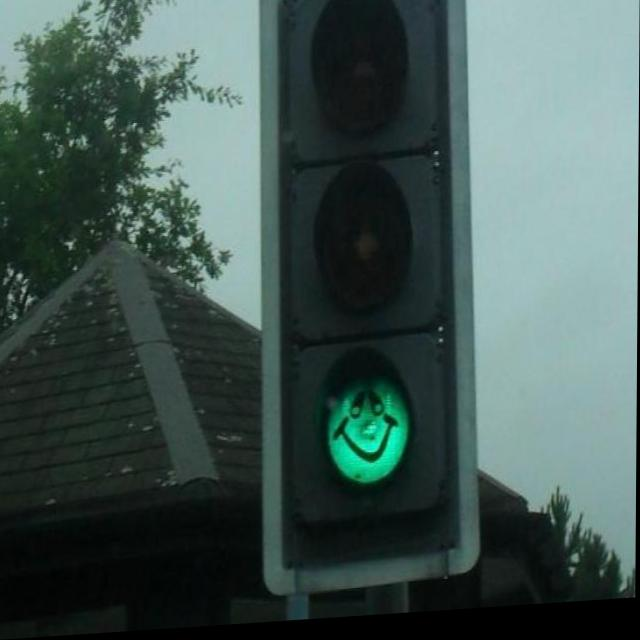green light: (284, 0, 452, 529)
